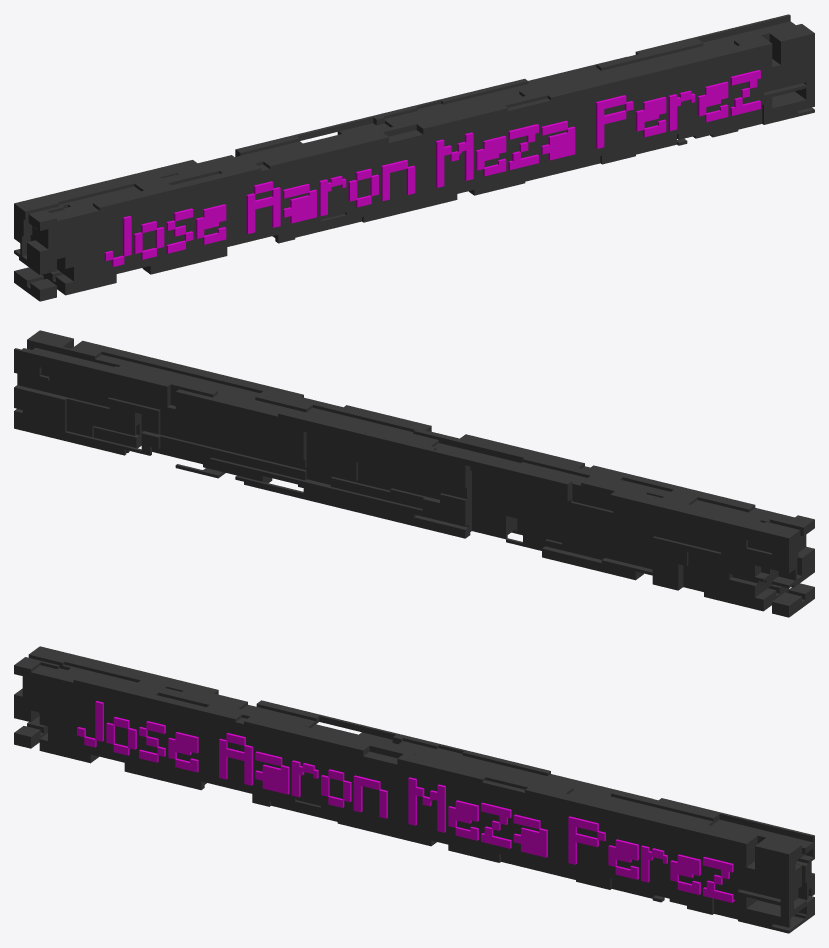
Rendered from JoseAMP.fbx.
3 views of the same model, one above another, from view 1: azimuth 30°, elevation 25°; view 2: azimuth 150°, elevation 25°; view 3: azimuth 330°, elevation 25° (orthographic).
Parts seen in each view (by area): view 1: rectangulo_2:polySurface1, typeMesh4; view 2: rectangulo_2:polySurface1; view 3: rectangulo_2:polySurface1, typeMesh4.
Part boxes in pixels (bbox=[...]): rectangulo_2:polySurface1: bbox=[14, 14, 814, 301]; typeMesh4: bbox=[104, 70, 760, 266]; rectangulo_2:polySurface1: bbox=[14, 330, 814, 617]; rectangulo_2:polySurface1: bbox=[14, 646, 814, 933]; typeMesh4: bbox=[77, 701, 735, 902].
Bounding box in the file's own units: 27.6 × 2.7 × 1.69.
